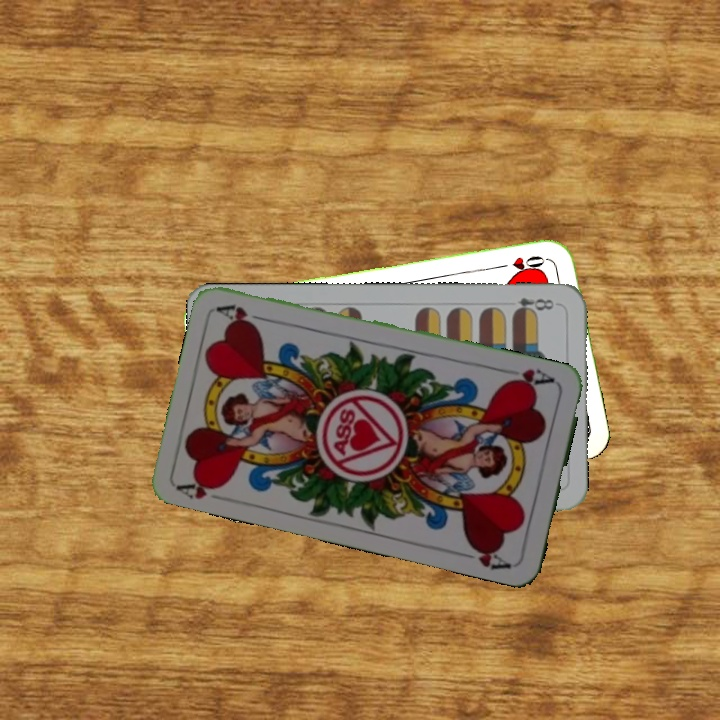E8: (509, 294, 561, 317)
HA: (174, 473, 233, 504), (503, 364, 557, 391)
HO: (492, 251, 551, 274)
